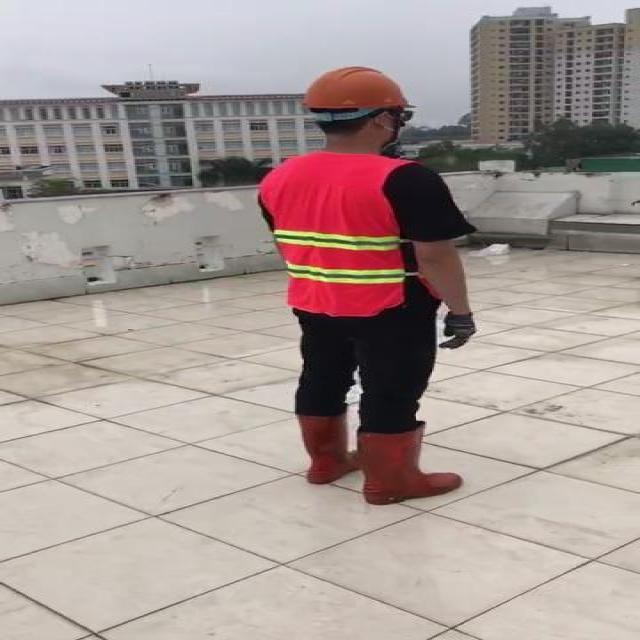boots: (356, 424, 470, 508), (291, 412, 364, 484)
gloves: (426, 304, 482, 354)
helmet: (294, 64, 419, 114)
vest: (260, 153, 432, 316)
